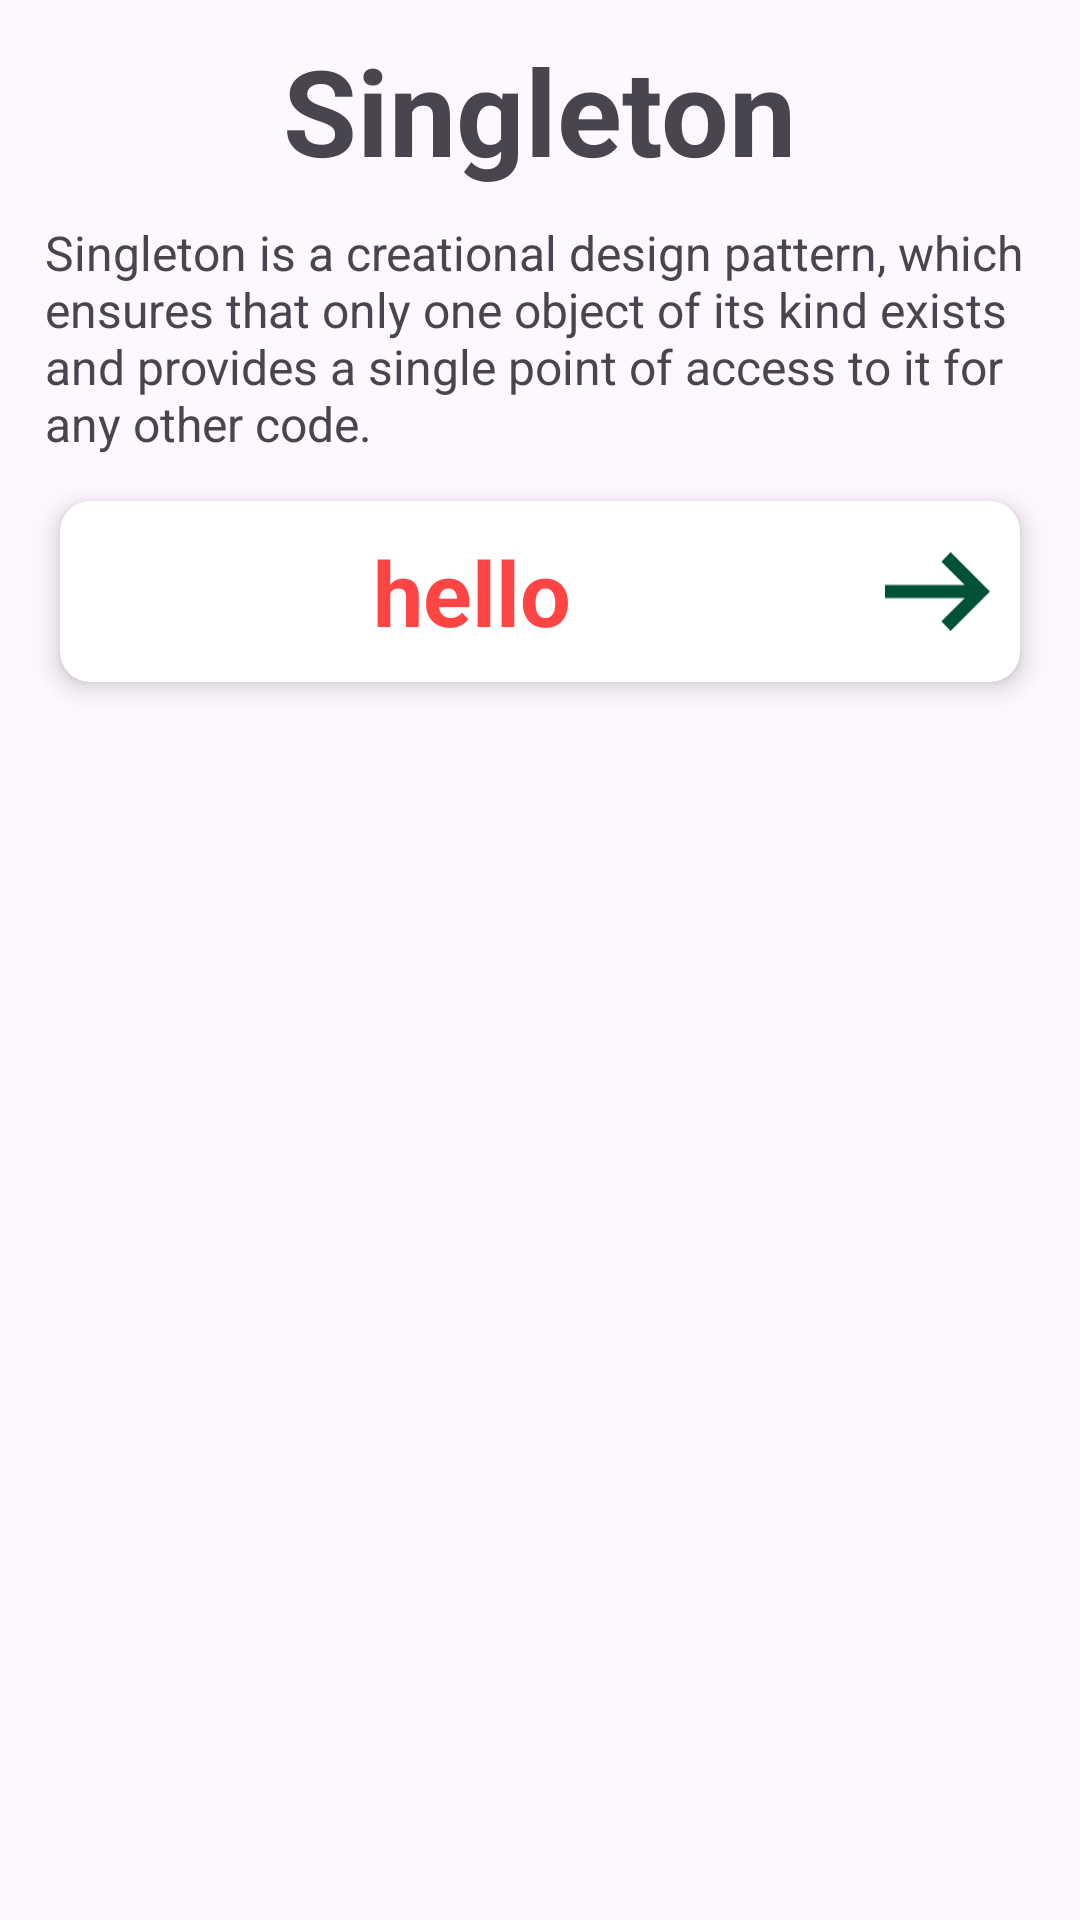

Named icons in this screenshot (1080 × 1920) and their bounding boxes, box(x1, y1, x2, y2):
allow right: box(885, 552, 990, 631)
